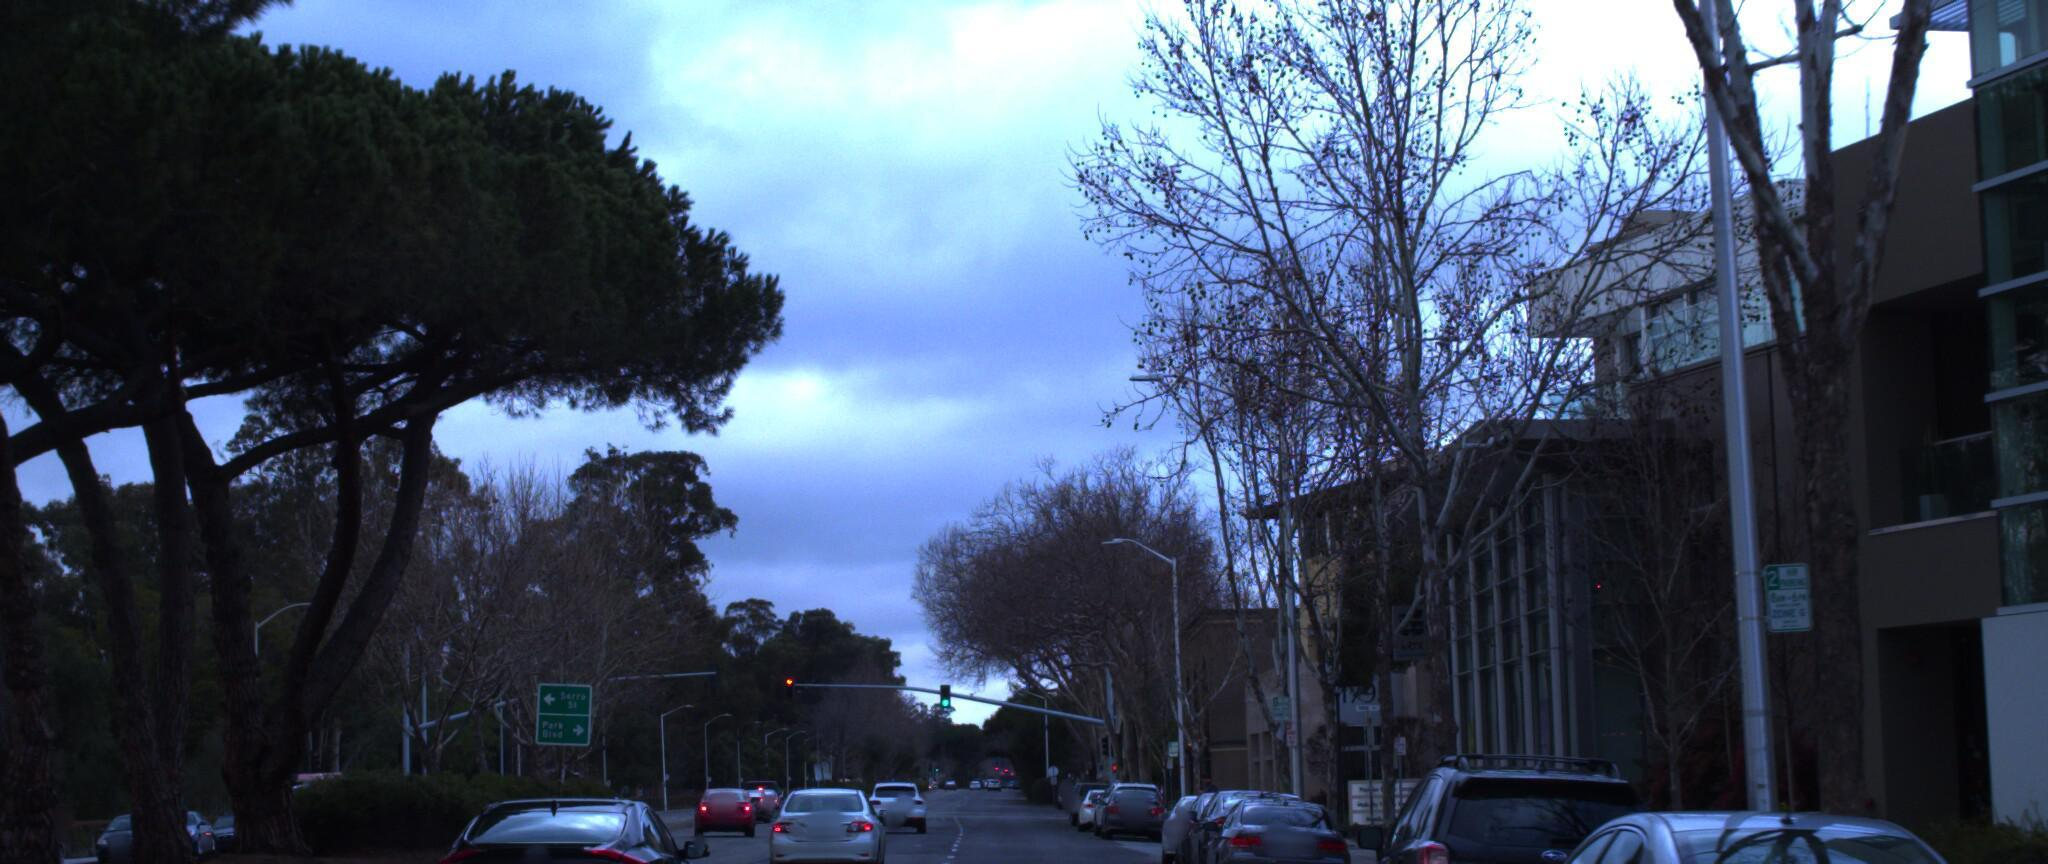car: (1347, 744, 1714, 864), (1475, 797, 2048, 864), (406, 780, 711, 864), (1200, 790, 1358, 864), (756, 778, 884, 864)
